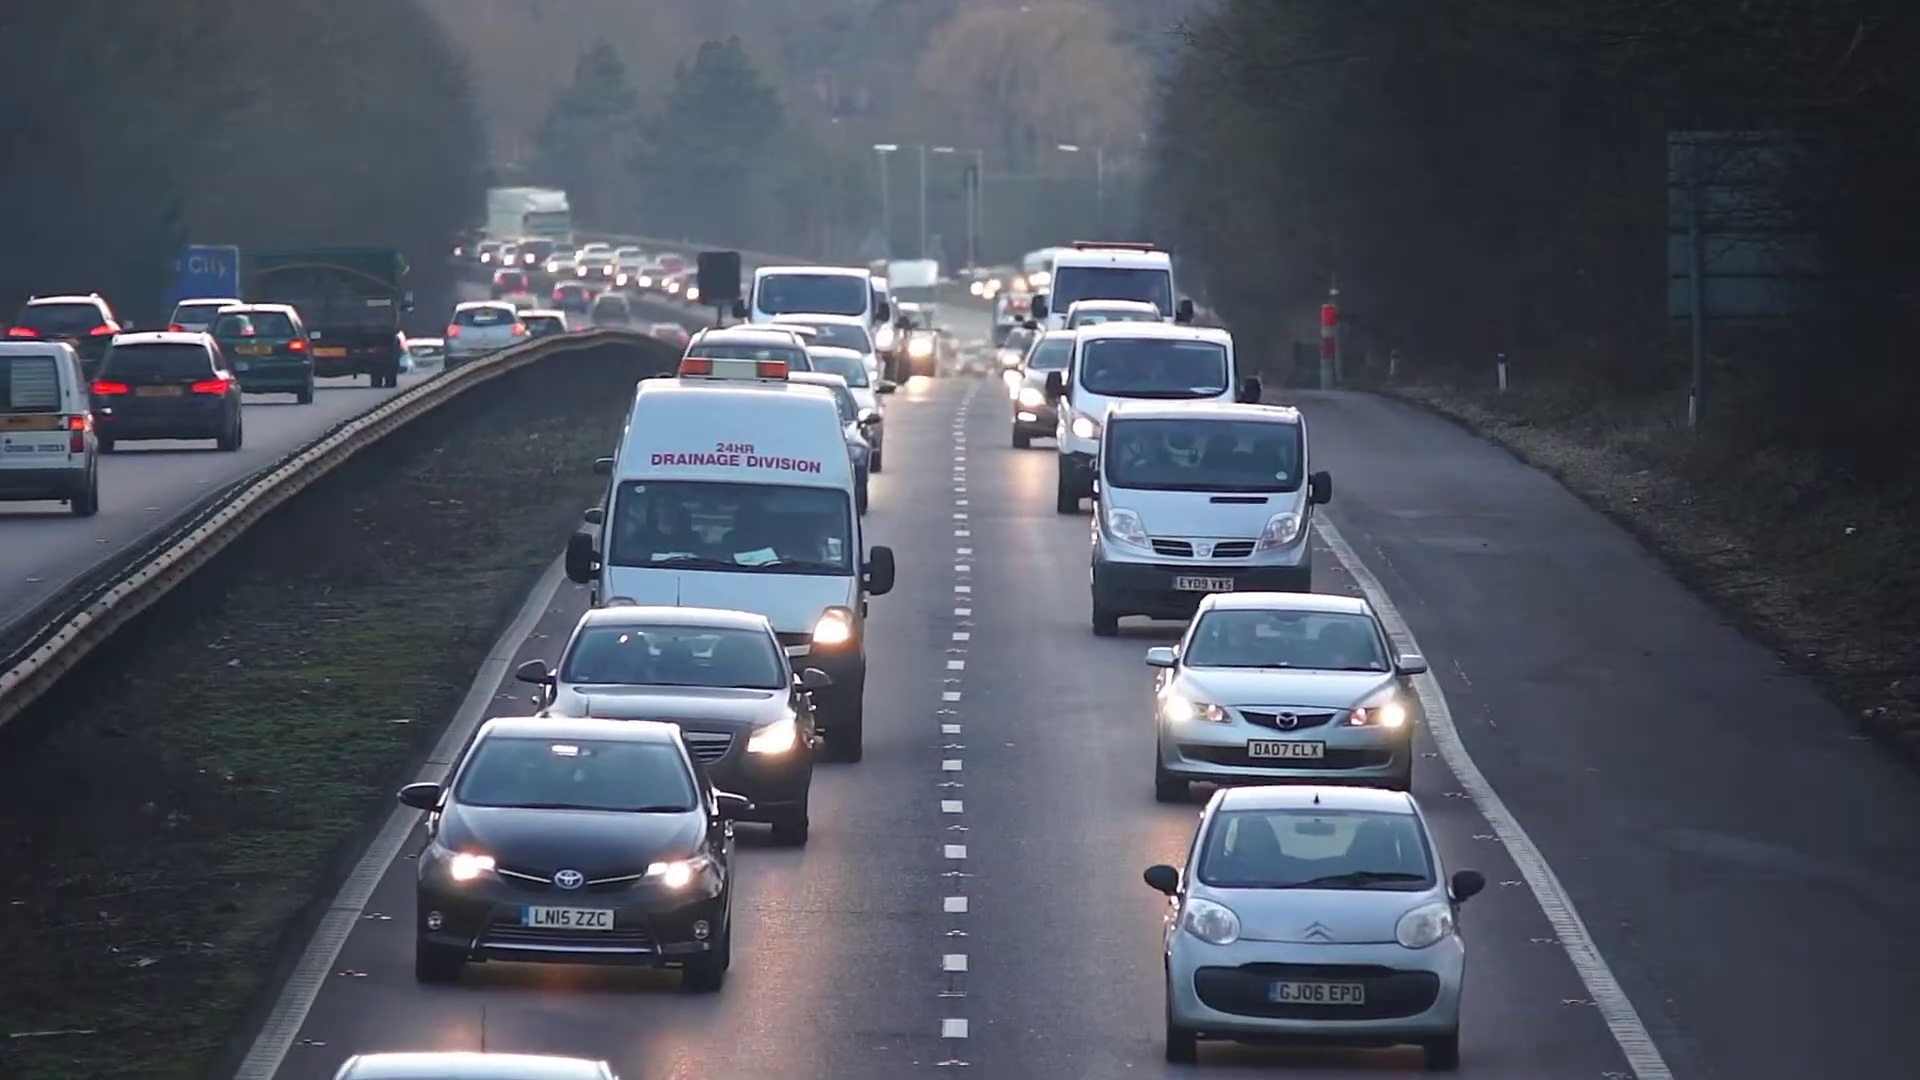license_plate: (1270, 978, 1370, 1009), (525, 905, 620, 934), (1243, 739, 1326, 760)
